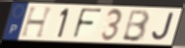1: (56, 7, 71, 39)
3: (100, 7, 124, 43)
B: (120, 9, 151, 43)
F: (71, 7, 104, 41)
H: (19, 6, 55, 40)
J: (151, 12, 176, 42)
